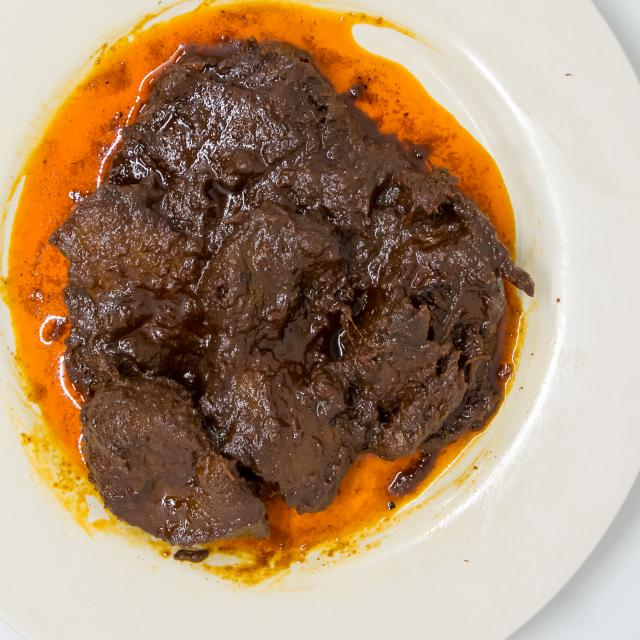Rendang: (32, 22, 540, 570)
